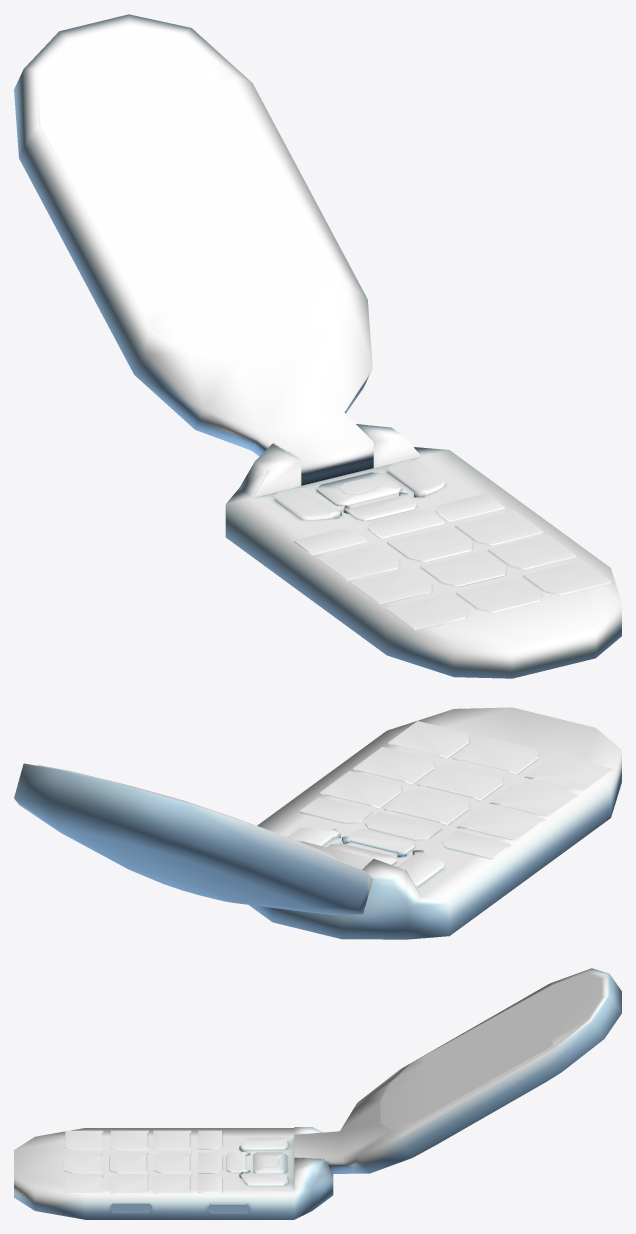
Rendered from norma_cellphone_color.fbx.
3 renders of one model, top to bottom at view 1: azimuth 30°, elevation 25°; view 2: azimuth 150°, elevation 25°; view 3: azimuth 270°, elevation 25°, orthographic. The views are drawn at different scales.
Parts seen in each view (by area): view 1: polySurface1; view 2: polySurface1; view 3: polySurface1.
Part boxes in pixels (box(x1,y1,x2,y2)): polySurface1: box(14, 14, 621, 678); polySurface1: box(14, 707, 621, 939); polySurface1: box(14, 968, 621, 1219).
Bounding box in the file's own units: 0.3708 × 0.5237 × 1.33.
